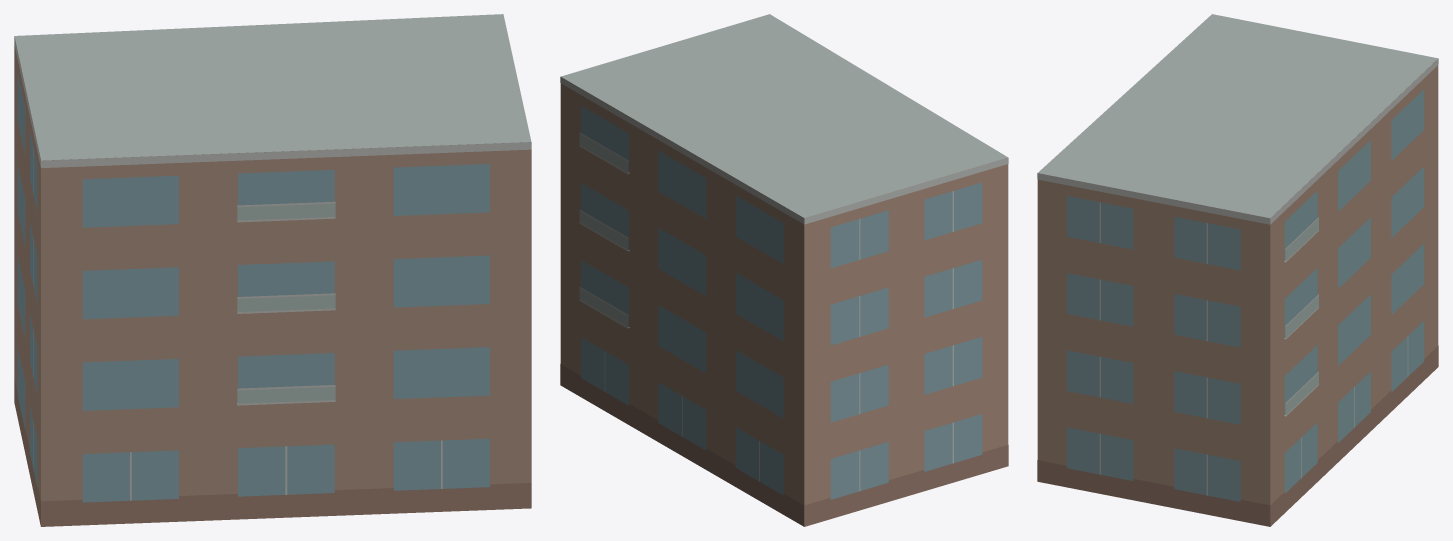
File: survey-upis-32797581.glb
3 views of the same model, side by side, from view 1: azimuth 30°, elevation 25°; view 2: azimuth 150°, elevation 25°; view 3: azimuth 270°, elevation 25° (orthographic). The views are drawn at different scales.
Visible parts, largest first — view 1: survey-upis-32797581.tmp; view 2: survey-upis-32797581.tmp; view 3: survey-upis-32797581.tmp.
Boxes of the visible parts, <box> form: survey-upis-32797581.tmp: <box>14,14,531,526</box>; survey-upis-32797581.tmp: <box>560,14,1008,526</box>; survey-upis-32797581.tmp: <box>1037,14,1438,526</box>.
Bounding box in the file's own units: 16.62 × 11.7 × 13.79.
